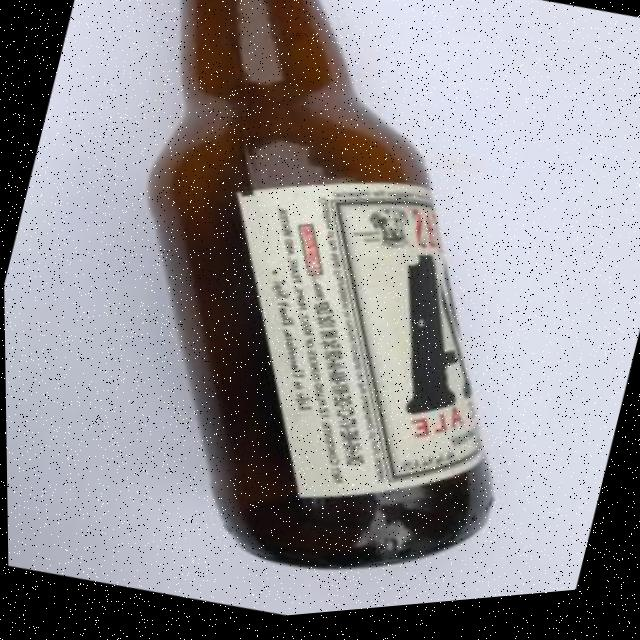glass: (7, 0, 630, 640)
